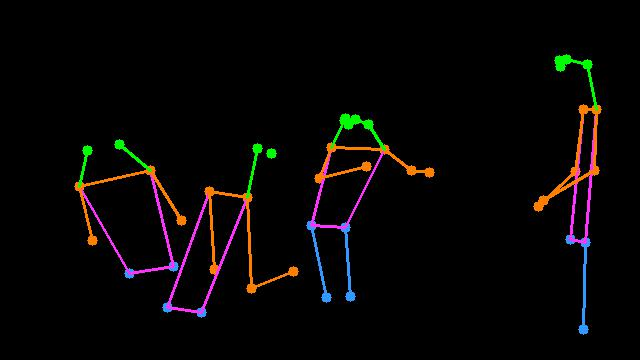normal: (507, 44, 624, 345)
